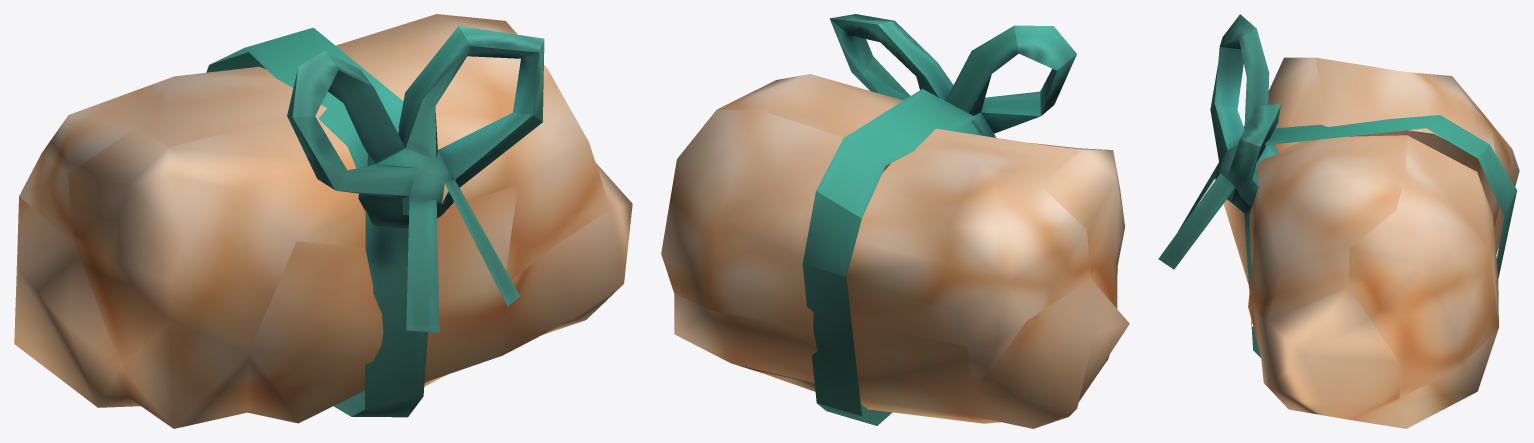
Rendered from obj_consumable_cotton_lod1.fbx.
3 renders of one model, left to right at view 1: azimuth 30°, elevation 25°; view 2: azimuth 150°, elevation 25°; view 3: azimuth 270°, elevation 25°, orthographic. The views are drawn at different scales.
Visible parts, largest first — view 1: polySurface27; view 2: polySurface27; view 3: polySurface27.
Boxes of the visible parts, x1,y1,x2,y2 form: polySurface27: (14,14,632,428); polySurface27: (661,14,1129,428); polySurface27: (1158,14,1519,428).
Bounding box in the file's own units: 1.78 × 1.28 × 1.33.
1 material, 1 textured.
